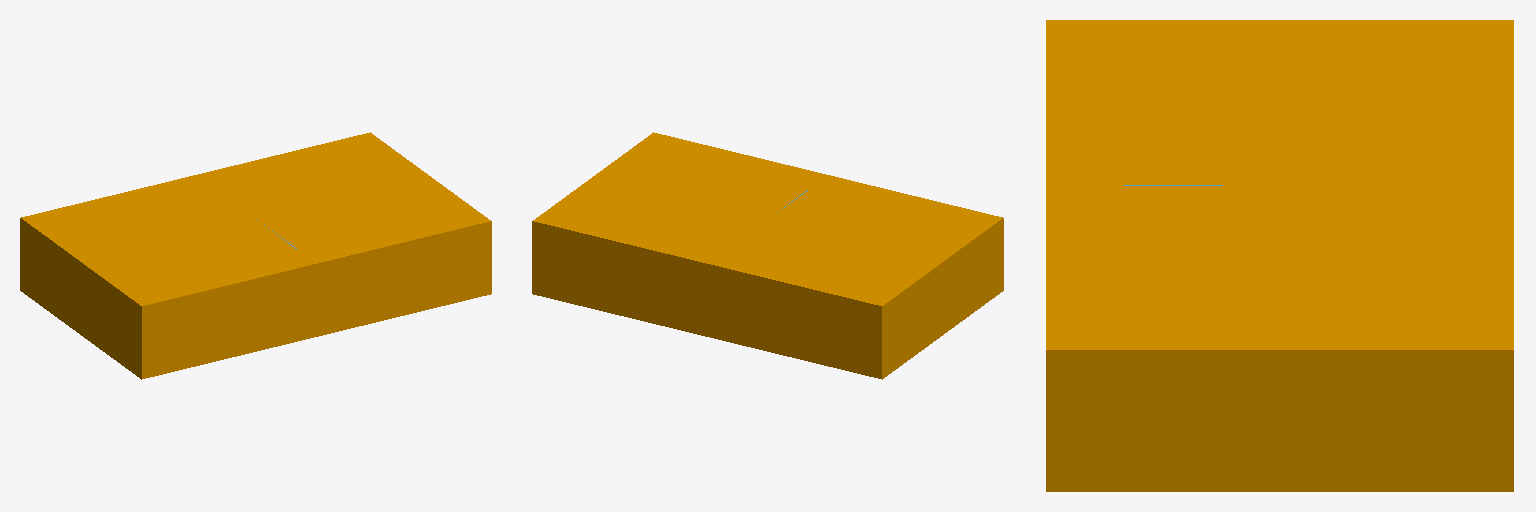
URDF robot description (hierarchy_bot):
<?xml version="1.0"?>
<robot name="hierarchy_bot">
  <link name="base_link">
    <visual>
      <geometry>
        <box size="0.5 0.3 0.1"/>
      </geometry>
    </visual>
    <collision>
      <geometry>
        <box size="0.5 0.3 0.1"/>
      </geometry>
    </collision>
  </link>
  <joint name="base_link_to_top_link" type="fixed">
    <parent link="base_link"/>
    <child link="top_link"/>
  </joint>
  <link name="top_link">
    <visual>
      <origin rpy="1.57 0 0"/>
      <geometry>
        <cylinder radius="0.05" length="0.2"/>
      </geometry>
    </visual>
    <collision>
      <origin rpy="1.57 0 0"/>
      <geometry>
        <cylinder radius="0.05" length="0.2"/>
      </geometry>
    </collision>
  </link>
</robot>

--- Facts derived from the render (not from the file) ---
3 views of the same robot in one strip: view 1: azimuth 30°, elevation 25°; view 2: azimuth 150°, elevation 25°; view 3: azimuth 270°, elevation 25° (orthographic).
Robot: hierarchy_bot — 2 links, 1 joints (1 fixed); root link base_link; default pose: every joint at zero.
Visible links, largest first — view 1: base_link; view 2: base_link; view 3: base_link.
Link boxes in pixels (<box>): base_link: <box>20,132,491,379</box>; base_link: <box>532,132,1003,379</box>; base_link: <box>1046,20,1513,491</box>.
Bounding box of the posed robot: 0.5 × 0.3 × 0.1002 m (x, y, z).
Geometry: primitives only (box / cylinder / sphere), no mesh files.